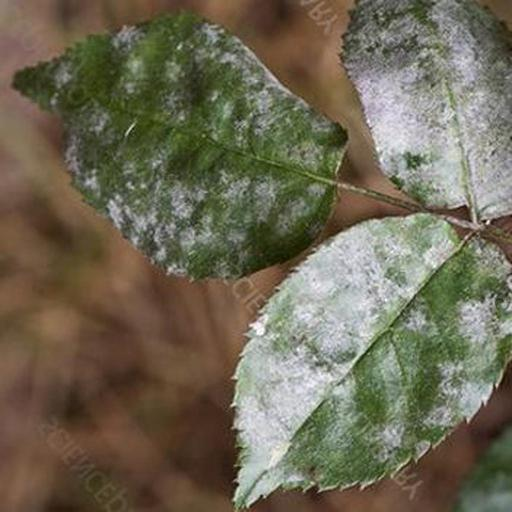powdery_mildew: (12, 12, 345, 278), (234, 214, 512, 508), (342, 0, 512, 220)
